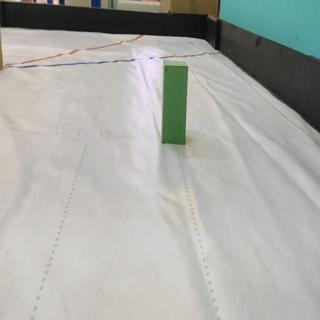greenbox: (161, 59, 189, 146)
